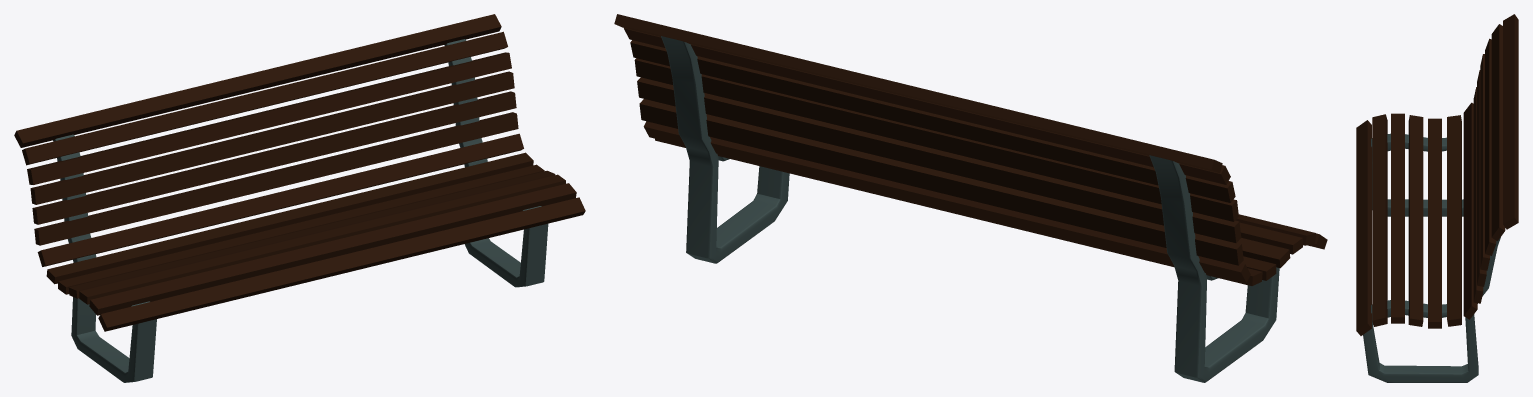
Rendered from BusStop Seat.fbx.
3 renders of one model, left to right at view 1: azimuth 30°, elevation 25°; view 2: azimuth 150°, elevation 25°; view 3: azimuth 270°, elevation 25°, orthographic. The views are drawn at different scales.
Visible parts, largest first — view 1: pCube36; view 2: pCube36; view 3: pCube36.
Boxes of the visible parts, x1,y1,x2,y2 form: pCube36: (14, 14, 585, 382); pCube36: (614, 14, 1327, 382); pCube36: (1356, 14, 1518, 382).
Bounding box in the file's own units: 5.98 × 2.47 × 2.01.
